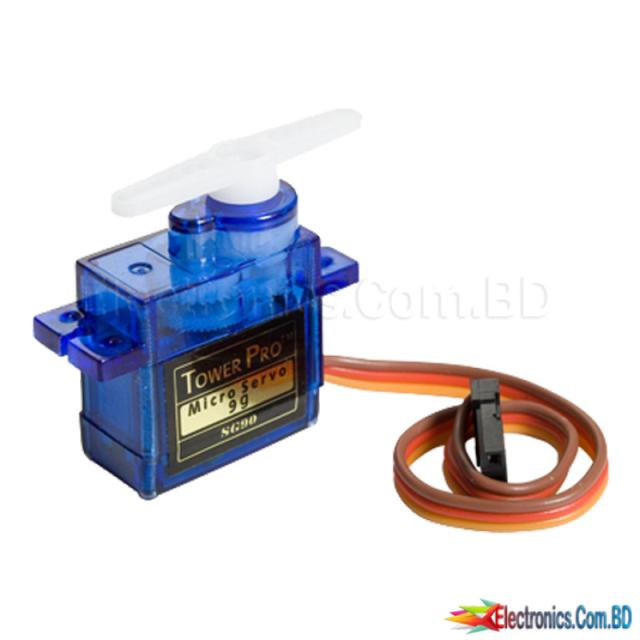motor: (31, 114, 365, 497)
